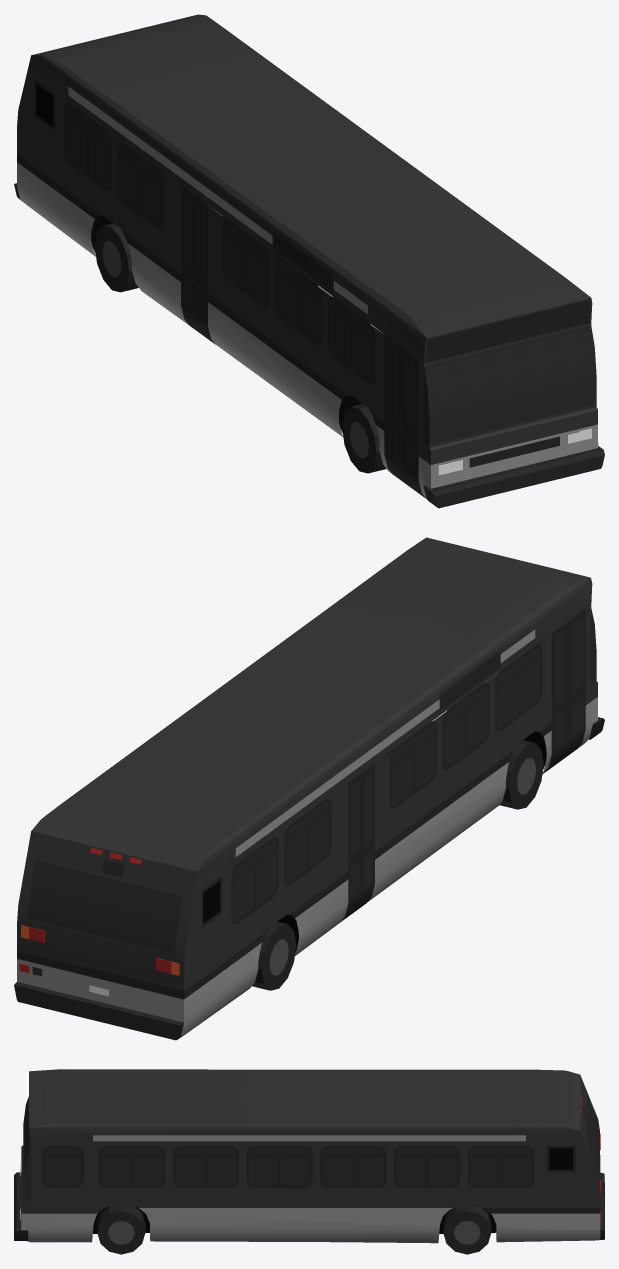
Rendered from Model_Bus.fbx.
The picture shows the model from 3 angles, top to bottom: view 1: azimuth 30°, elevation 25°; view 2: azimuth 150°, elevation 25°; view 3: azimuth 270°, elevation 25°; orthographic projection. The views are drawn at different scales.
Parts seen in each view (by area): view 1: NotPaintableBody, PaintableBody, Wheel_FR, Wheel_RR; view 2: NotPaintableBody, PaintableBody, Wheel_FR, Wheel_RR; view 3: NotPaintableBody, PaintableBody, Wheel_FL, Wheel_RL.
Boxes of the visible parts, box(x1,y1,x2,y2) form: NotPaintableBody: box(14, 14, 604, 508); PaintableBody: box(17, 86, 598, 498); Wheel_FR: box(342, 404, 386, 473); Wheel_RR: box(94, 223, 138, 292); NotPaintableBody: box(14, 537, 604, 1040); PaintableBody: box(17, 629, 598, 1037); Wheel_FR: box(499, 740, 543, 809); Wheel_RR: box(252, 921, 296, 990); NotPaintableBody: box(14, 1069, 604, 1240); PaintableBody: box(21, 1135, 600, 1243); Wheel_FL: box(97, 1205, 145, 1254); Wheel_RL: box(443, 1207, 491, 1254).
Size of the model in its own units: 2184 by 2260 by 9292.
Materials: 6 (5 with a texture image).
